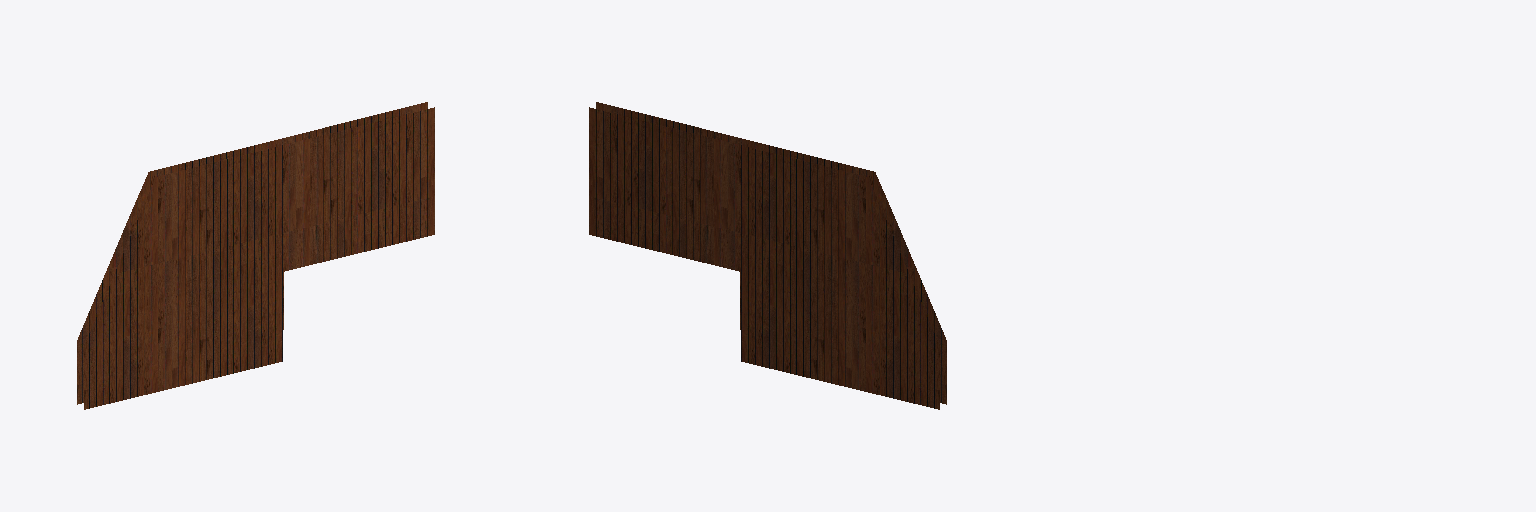
3 renders of one model, left to right at view 1: azimuth 30°, elevation 25°; view 2: azimuth 150°, elevation 25°; view 3: azimuth 270°, elevation 25°, orthographic.
Parts seen in each view (by area): view 1: floor_9; view 2: floor_9; view 3: none.
Part boxes in pixels (left/top/right/bottom): floor_9: left=77, top=102, right=434, bottom=409; floor_9: left=589, top=102, right=946, bottom=409.
Bounding box in the file's own units: 2.83 × 1.67 × 0.1.
1 materials, 1 textured.